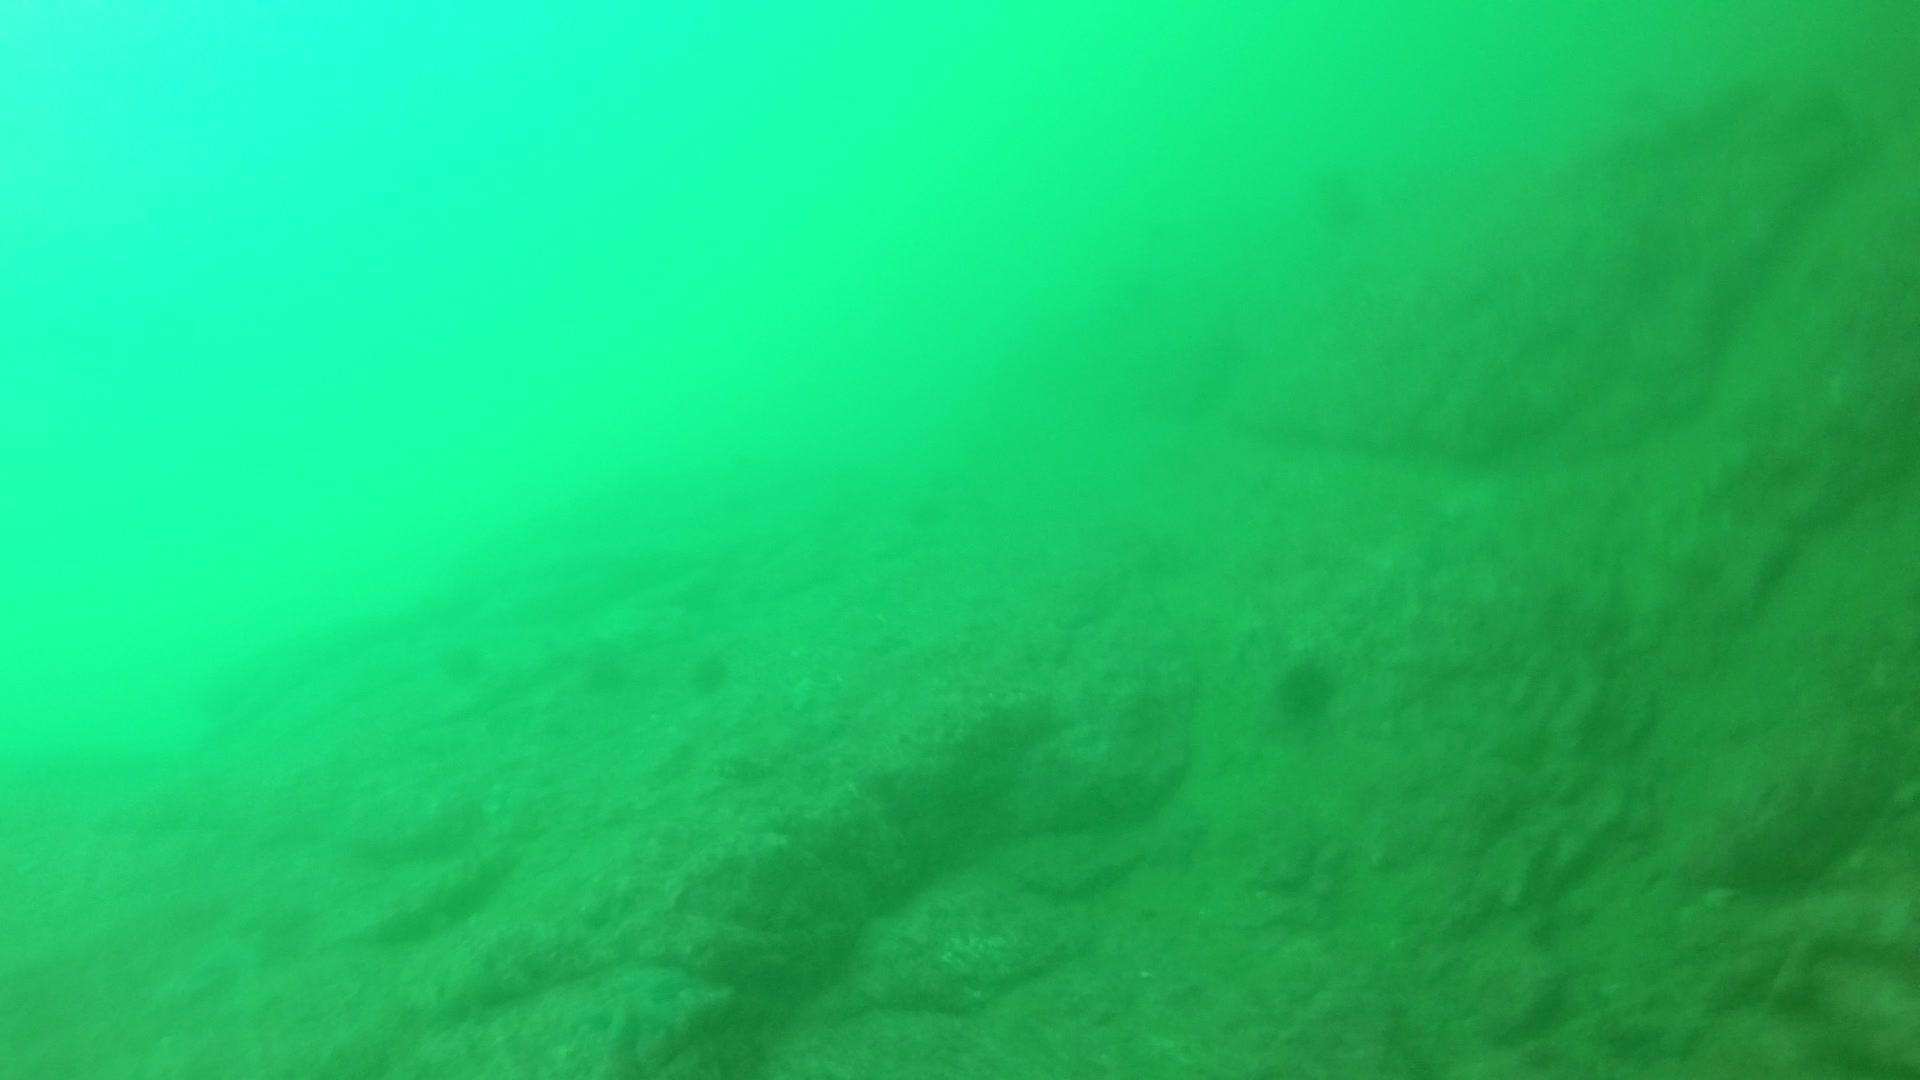echinus: (1266, 647, 1345, 725), (683, 644, 736, 699)
